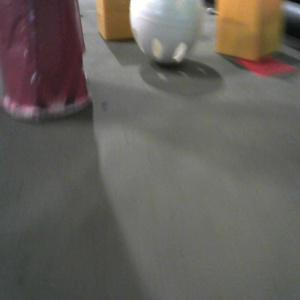middle: (1, 1, 92, 120)
